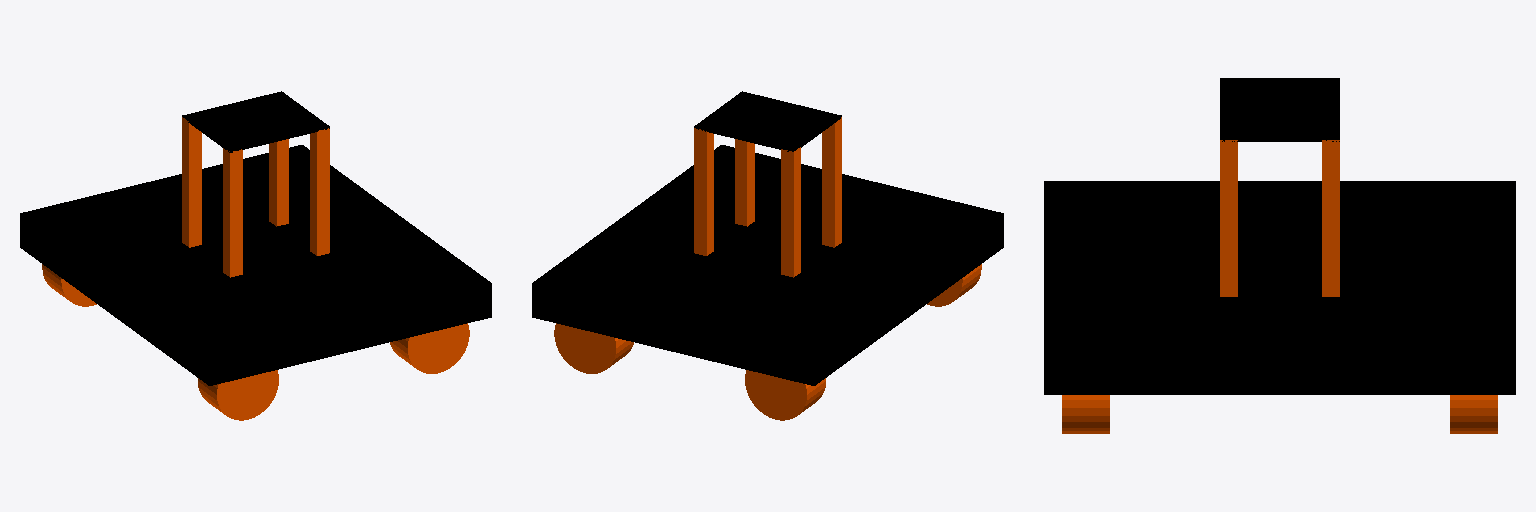
The robot description file, URDF, robot "xbot":
<?xml version="1.0" ?>
<robot name="xbot">

    <link name="base_link">
        <visual>
            <origin xyz=" 0 0 0" rpy="0 0 0" />
            <geometry>
                <box size="0.34 0.395 0.04" />
            </geometry>
            <material name="black">
                <color rgba="0 0 0 0.95"/>
            </material>
        </visual>
    </link>

    <joint name="left_up_wheel_joint" type="continuous">
        <origin xyz="0.115 0.1625 -0.04" rpy="0 0 0"/>
        <parent link="base_link"/>
        <child link="left_up_wheel_link"/>
        <axis xyz="0 1 0"/>
    </joint>

   <link name="left_up_wheel_link">
        <visual>
            <origin xyz="0 0 0" rpy="1.5707 0 0" />
            <geometry>
                <cylinder radius="0.0375" length = "0.04"/>
            </geometry>
            <material name="yellow">
                <color rgba="1 0.4 0 1"/>
            </material>
        </visual>
    </link>

   <joint name="right_up_wheel_joint" type="continuous">
        <origin xyz="-0.115 0.1625 -0.04" rpy="0 0 0"/>
        <parent link="base_link"/>
        <child link="right_up_wheel_link"/>
        <axis xyz="0 1 0"/>
    </joint>

   <link name="right_up_wheel_link">
        <visual>
            <origin xyz="0 0 0" rpy="1.5707 0 0" />
            <geometry>
                <cylinder radius="0.0375" length = "0.04"/>
            </geometry>
            <material name="yellow">
                <color rgba="1 0.4 0 1"/>
            </material>
        </visual>
    </link>

 <joint name="left_down_wheel_joint" type="continuous">
        <origin xyz="0.115 -0.1625 -0.04" rpy="0 0 0"/>
        <parent link="base_link"/>
        <child link="left_down_wheel_link"/>
        <axis xyz="0 1 0"/>
    </joint>

   <link name="left_down_wheel_link">
        <visual>
            <origin xyz="0 0 0" rpy="1.5707 0 0" />
            <geometry>
                <cylinder radius="0.0375" length = "0.04"/>
            </geometry>
            <material name="yellow">
                <color rgba="1 0.4 0 1"/>
            </material>
        </visual>
    </link>

   <joint name="right_down_wheel_joint" type="continuous">
        <origin xyz="-0.115 -0.1625 -0.04" rpy="0 0 0"/>
        <parent link="base_link"/>
        <child link="right_down_wheel_link"/>
        <axis xyz="0 1 0"/>
    </joint>

   <link name="right_down_wheel_link">
        <visual>
            <origin xyz="0 0 0" rpy="1.5707 0 0" />
            <geometry>
                <cylinder radius="0.0375" length = "0.04"/>
            </geometry>
            <material name="yellow">
                <color rgba="1 0.4 0 1"/>
            </material>
        </visual>
    </link>

  <joint name="left_up_support_joint" type="fixed">
        <origin xyz="0.0525 0.0425 0.0925" rpy="0 0 0"/>
        <parent link="base_link"/>
        <child link="left_up_support"/>
        <axis xyz="0 0 0"/>
    </joint>


    <link name="left_up_support"> 
        <visual>
            <origin xyz=" 0 0 0" rpy="0 0 0" />
            <geometry>
                <box size="0.015 0.015 0.145" />
            </geometry>
            <material name="yellow">
                <color rgba="1 0.4 0 1"/>
            </material>
        </visual>
    </link>

<joint name="right_up_support_joint" type="fixed">
        <origin xyz="-0.0525 0.0425 0.0925" rpy="0 0 0"/>
        <parent link="base_link"/>
        <child link="right_up_support"/>
        <axis xyz="0 0 0"/>
    </joint>


    <link name="right_up_support"> 
        <visual>
            <origin xyz=" 0 0 0" rpy="0 0 0" />
            <geometry>
                <box size="0.015 0.015 0.145" />
            </geometry>
            <material name="yellow">
                <color rgba="1 0.4 0 1"/>
            </material>
        </visual>
    </link>

<joint name="left_down_support_joint" type="fixed">
        <origin xyz="0.0525 -0.0425 0.0925" rpy="0 0 0"/>
        <parent link="base_link"/>
        <child link="left_down_support"/>
        <axis xyz="0 0 0"/>
    </joint>


    <link name="left_down_support"> 
        <visual>
            <origin xyz=" 0 0 0" rpy="0 0 0" />
            <geometry>
                <box size="0.015 0.015 0.145" />
            </geometry>
            <material name="yellow">
                <color rgba="1 0.4 0 1"/>
            </material>
        </visual>
    </link>

<joint name="right_down_support_joint" type="fixed">
        <origin xyz="-0.0525 -0.0425 0.0925" rpy="0 0 0"/>
        <parent link="base_link"/>
        <child link="right_down_support"/>
        <axis xyz="0 0 0"/>
    </joint>


    <link name="right_down_support"> 
        <visual>
            <origin xyz=" 0 0 0" rpy="0 0 0" />
            <geometry>
                <box size="0.015 0.015 0.145" />
            </geometry>
            <material name="yellow">
                <color rgba="1 0.4 0 1"/>
            </material>
        </visual>
    </link>

<joint name="support_link_joint" type="fixed">
        <origin xyz="0 0 0.165" rpy="0 0 0"/>
        <parent link="base_link"/>
        <child link="support_link"/>
        <axis xyz="0 1 0"/>
    </joint>


 <link name="support_link">
        <visual>
            <origin xyz=" 0 0 0" rpy="0 0 0" />
            <geometry>
                <box size="0.12 0.1 0.003" />
            </geometry>
            <material name="black">
                <color rgba="0 0 0 0.95"/>
            </material>
        </visual>
    </link>

   
   <link name="kinect_link">
        <visual>
            <origin xyz="0 0 0" rpy="0 0 1.5708"/>
            <geometry>
                <mesh filename="package://xbot_description/meshes/kinect.dae" />
            </geometry>
        </visual>
    </link>

    <joint name="kinect_joint" type="fixed">
        <origin xyz="0.13 0 0.05" rpy="0 0 0"/>
        <parent link="base_link"/>
        <child link="kinect_link"/>
    </joint>



</robot>

--- What the picture shows (computed from the rendered views, not written in the file) ---
The picture shows the robot from 3 angles, left to right: view 1: azimuth 30°, elevation 25°; view 2: azimuth 150°, elevation 25°; view 3: azimuth 270°, elevation 25°; orthographic projection.
Robot: xbot — 11 links, 10 joints (4 continuous, 6 fixed); root link base_link; default pose: all joints at 0.
Visible links, largest first — view 1: base_link, support_link, right_down_wheel_link, left_down_wheel_link, right_down_support, left_down_support, right_up_support, left_up_support, right_up_wheel_link; view 2: base_link, support_link, right_up_wheel_link, right_up_support, left_up_wheel_link, left_up_support, right_down_support, left_down_support, right_down_wheel_link; view 3: base_link, support_link, left_up_support, left_down_support, left_up_wheel_link, left_down_wheel_link.
Link boxes in pixels (x1,y1,x2,y2): base_link: [20, 145, 491, 385]; support_link: [182, 91, 329, 152]; right_down_wheel_link: [198, 370, 278, 420]; left_down_wheel_link: [390, 323, 469, 373]; right_down_support: [223, 148, 242, 277]; left_down_support: [310, 128, 329, 255]; right_up_support: [182, 117, 201, 247]; left_up_support: [269, 139, 288, 226]; right_up_wheel_link: [42, 264, 96, 306]; base_link: [532, 145, 1003, 385]; support_link: [694, 91, 841, 151]; right_up_wheel_link: [745, 370, 825, 420]; right_up_support: [781, 147, 800, 277]; left_up_wheel_link: [554, 323, 633, 373]; left_up_support: [694, 128, 713, 255]; right_down_support: [822, 117, 841, 247]; left_down_support: [735, 139, 754, 226]; right_down_wheel_link: [927, 264, 981, 306]; base_link: [1044, 181, 1515, 394]; support_link: [1220, 78, 1339, 141]; left_up_support: [1322, 140, 1339, 296]; left_down_support: [1220, 140, 1237, 296]; left_up_wheel_link: [1450, 395, 1497, 433]; left_down_wheel_link: [1062, 395, 1109, 433].
Size in the robot's own frame: 0.34 by 0.395 by 0.244 metres.
0 mesh visuals loaded from 1 distinct referenced files (none loaded); not drawn: 1 (reference not matched to a file when rendering).